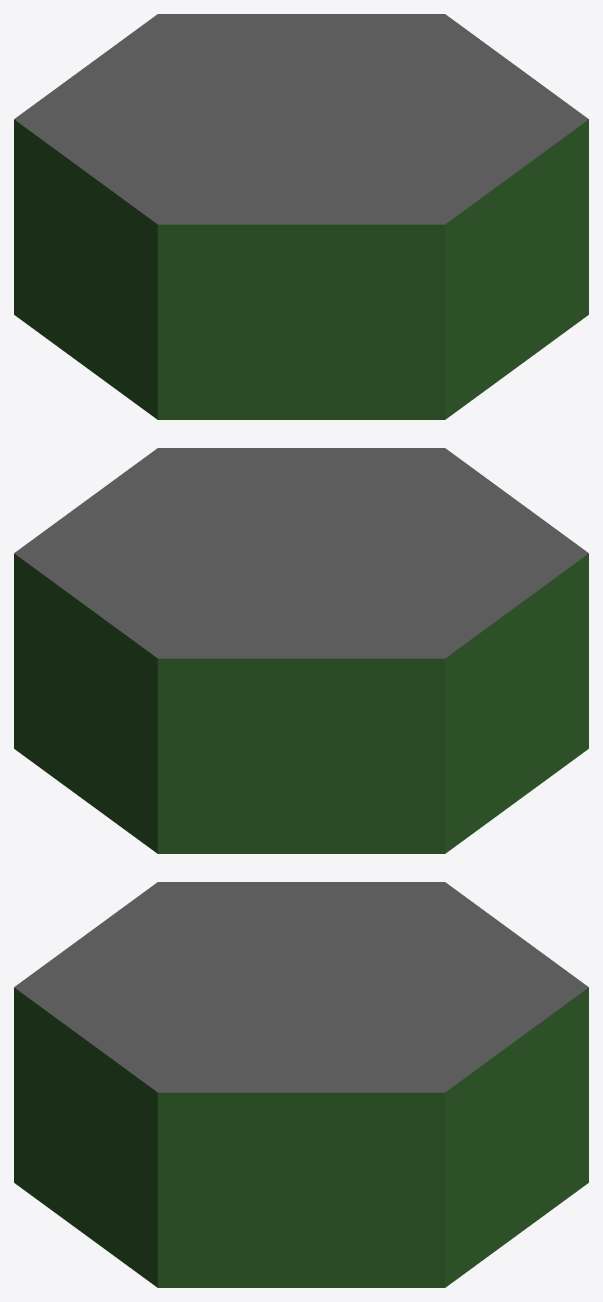
Rendered from Консерва.fbx.
The picture shows the model from 3 angles, top to bottom: view 1: azimuth 30°, elevation 25°; view 2: azimuth 150°, elevation 25°; view 3: azimuth 270°, elevation 25°; orthographic projection.
Visible parts, largest first — view 1: Cylinder.288; view 2: Cylinder.288; view 3: Cylinder.288.
Part boxes in pixels (box(x1,y1,x2,y2)): Cylinder.288: box(14, 14, 588, 419); Cylinder.288: box(14, 448, 588, 853); Cylinder.288: box(14, 882, 588, 1287).
Size of the model in its own units: 85.72 by 37.12 by 98.98.
